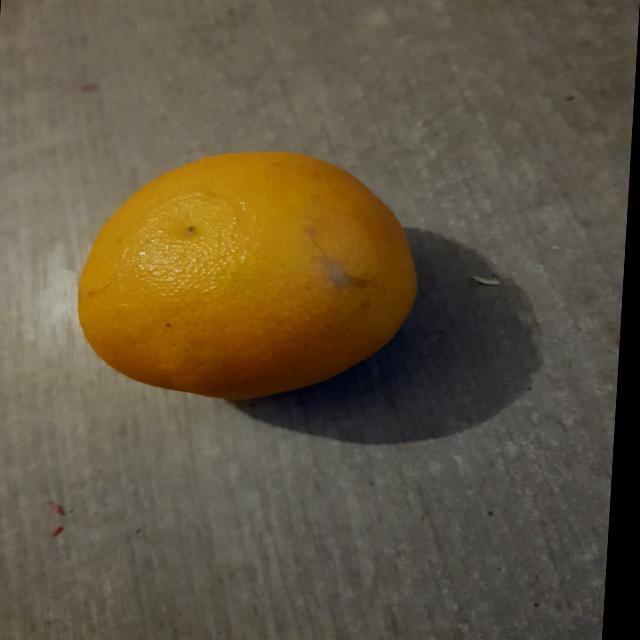Orange: (78, 150, 420, 403)
